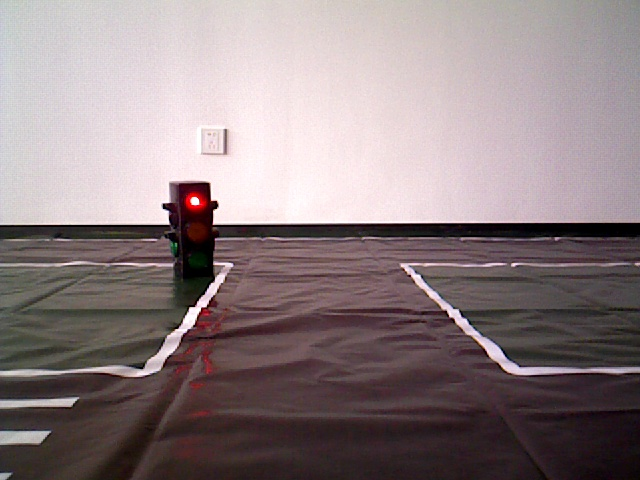red: (170, 182, 212, 282)
